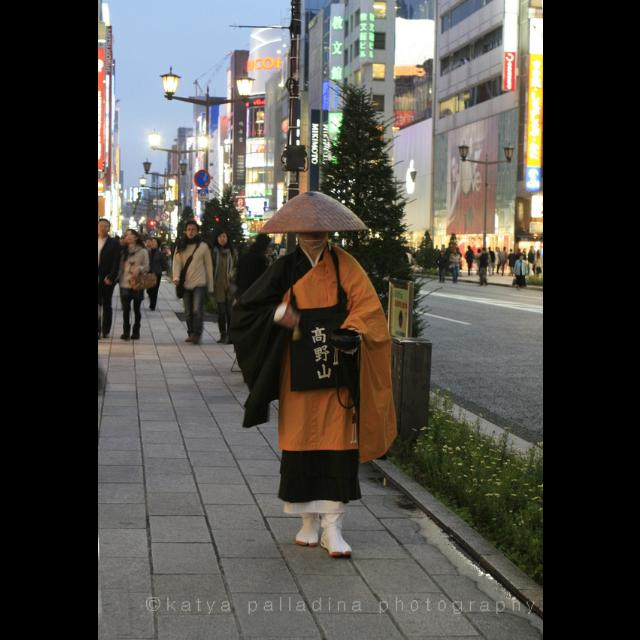head: (294, 205, 332, 249), (142, 238, 158, 302), (184, 221, 200, 241), (256, 234, 272, 250), (97, 219, 111, 237), (124, 230, 140, 244), (217, 232, 229, 246), (150, 238, 160, 250), (519, 254, 525, 262), (440, 251, 444, 257), (452, 250, 458, 254), (482, 248, 486, 252), (467, 246, 471, 250)
person: (223, 188, 401, 564), (170, 218, 216, 348), (102, 227, 152, 343), (232, 231, 278, 347), (206, 230, 238, 346), (98, 216, 120, 344), (144, 238, 164, 312), (142, 238, 158, 302), (475, 246, 493, 288), (512, 255, 530, 291), (448, 248, 462, 284), (462, 246, 476, 278), (436, 250, 448, 284)
